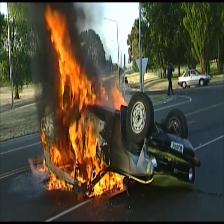fire_h: (44, 4, 109, 184), (86, 171, 125, 197), (47, 168, 74, 191)
fire_l: (111, 86, 127, 110), (40, 132, 48, 152), (38, 159, 49, 173)
